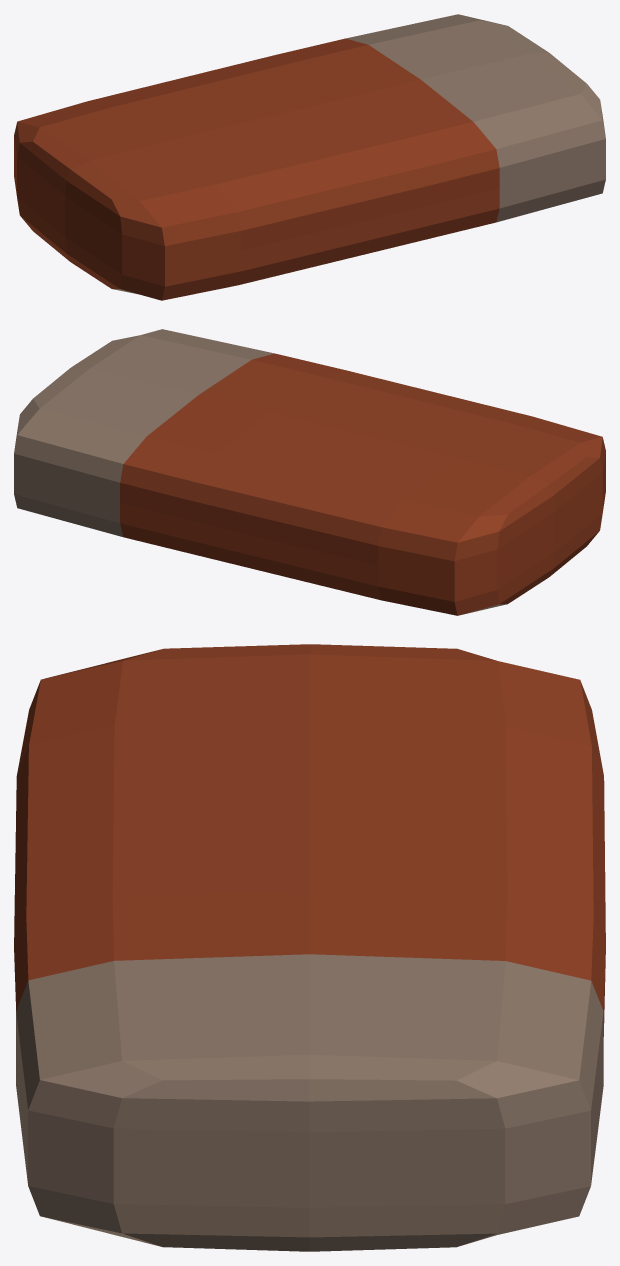
Rendered from CementC2_02.fbx.
3 views of the same model, one above another, from view 1: azimuth 30°, elevation 25°; view 2: azimuth 150°, elevation 25°; view 3: azimuth 270°, elevation 25° (orthographic). The views are drawn at different scales.
Visible parts, largest first — view 1: CementC2_02; view 2: CementC2_02; view 3: CementC2_02.
Part boxes in pixels (x1,y1,x2,y2): CementC2_02: (14,14,605,300); CementC2_02: (14,329,605,615); CementC2_02: (14,644,605,1251).
Size of the model in its own units: 64.29 by 12.76 by 36.21.
